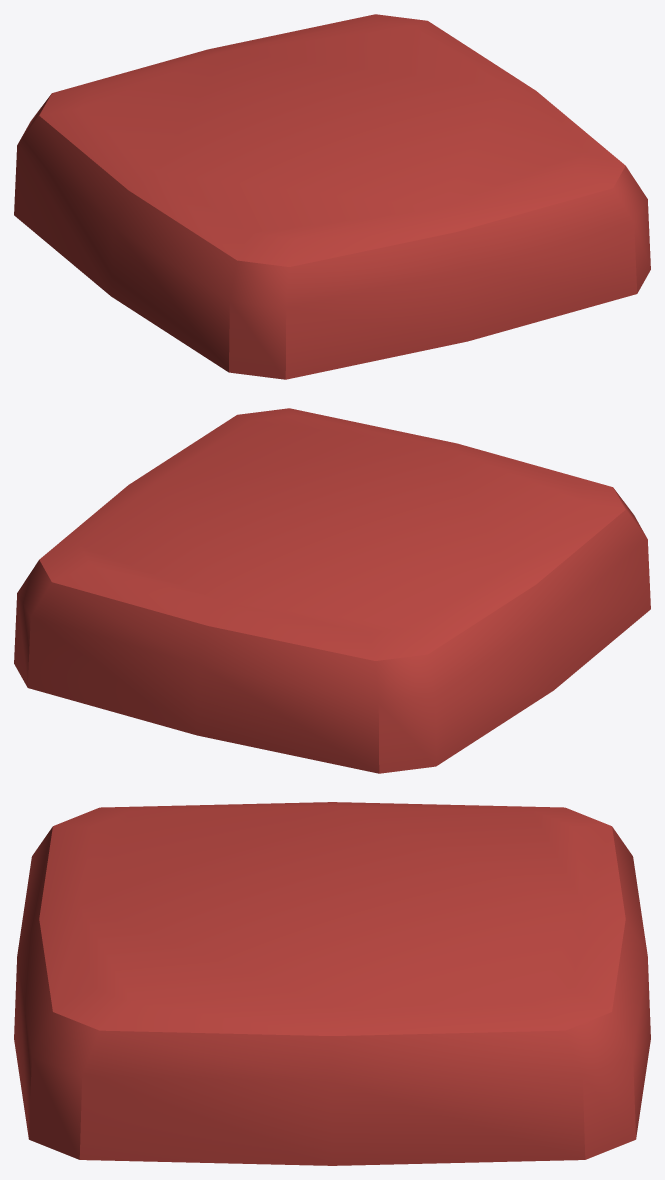
Rendered from trunk_lid_lod1.glb.
3 views of the same model, one above another, from view 1: azimuth 30°, elevation 25°; view 2: azimuth 150°, elevation 25°; view 3: azimuth 270°, elevation 25° (orthographic). The views are drawn at different scales.
Visible parts, largest first — view 1: trunk_lid_lod1; view 2: trunk_lid_lod1; view 3: trunk_lid_lod1.
Boxes of the visible parts, <box> form: trunk_lid_lod1: <box>14,14,650,379</box>; trunk_lid_lod1: <box>14,408,650,773</box>; trunk_lid_lod1: <box>14,802,650,1165</box>.
Bounding box in the file's own units: 0.3434 × 0.0832 × 0.3636.
